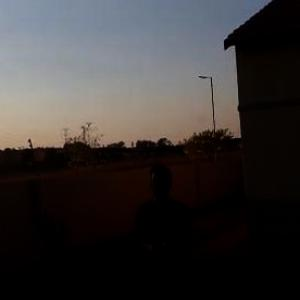follow: (128, 159, 200, 299)
